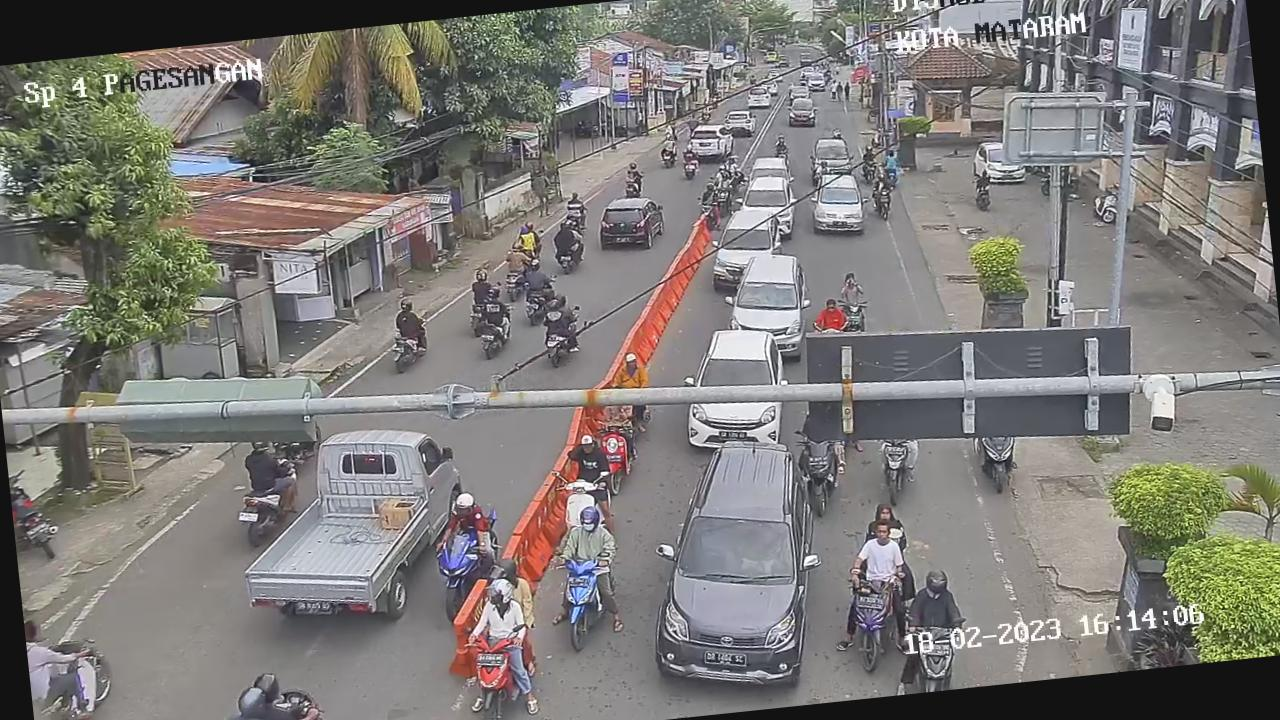car: (631, 426, 836, 698), (678, 316, 796, 458), (716, 246, 812, 342), (706, 200, 792, 294), (594, 193, 668, 252), (738, 172, 799, 243), (808, 170, 869, 236), (806, 134, 859, 187), (686, 119, 736, 166), (721, 106, 759, 144), (784, 94, 822, 131), (744, 84, 771, 109)
motorbike: (542, 538, 622, 657), (843, 558, 920, 673), (455, 620, 540, 720), (788, 423, 854, 522), (426, 526, 496, 618), (586, 410, 646, 502), (548, 461, 614, 543), (866, 427, 926, 514), (905, 622, 972, 694), (971, 430, 1024, 500), (834, 294, 870, 340), (870, 184, 898, 224), (696, 194, 721, 230), (711, 179, 735, 213), (860, 156, 880, 186), (772, 144, 790, 165)
person: (212, 663, 298, 720), (901, 564, 966, 636), (463, 575, 522, 649), (558, 496, 616, 567), (850, 513, 900, 584), (438, 487, 493, 546), (562, 432, 608, 487), (610, 344, 652, 395), (539, 291, 583, 338), (392, 305, 428, 357), (810, 296, 850, 336), (479, 282, 511, 330), (464, 264, 498, 309), (834, 268, 870, 310), (519, 252, 555, 292), (548, 215, 580, 251), (502, 239, 532, 276), (515, 218, 541, 252), (621, 159, 646, 184), (696, 179, 720, 205), (562, 188, 584, 216), (969, 164, 992, 190), (880, 148, 903, 171), (871, 170, 892, 194), (678, 142, 698, 164), (712, 162, 731, 185), (656, 133, 676, 153), (770, 131, 789, 150), (860, 143, 878, 163)
truck: (229, 419, 484, 634)
